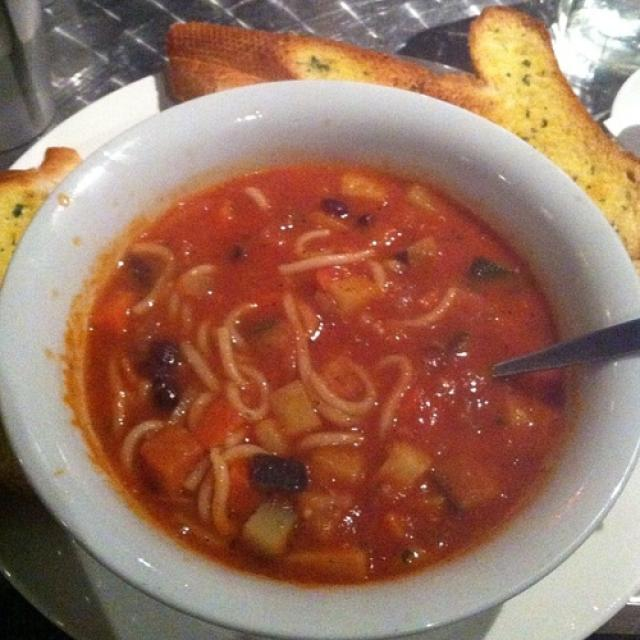汤锅炖物: (0, 71, 635, 634)
